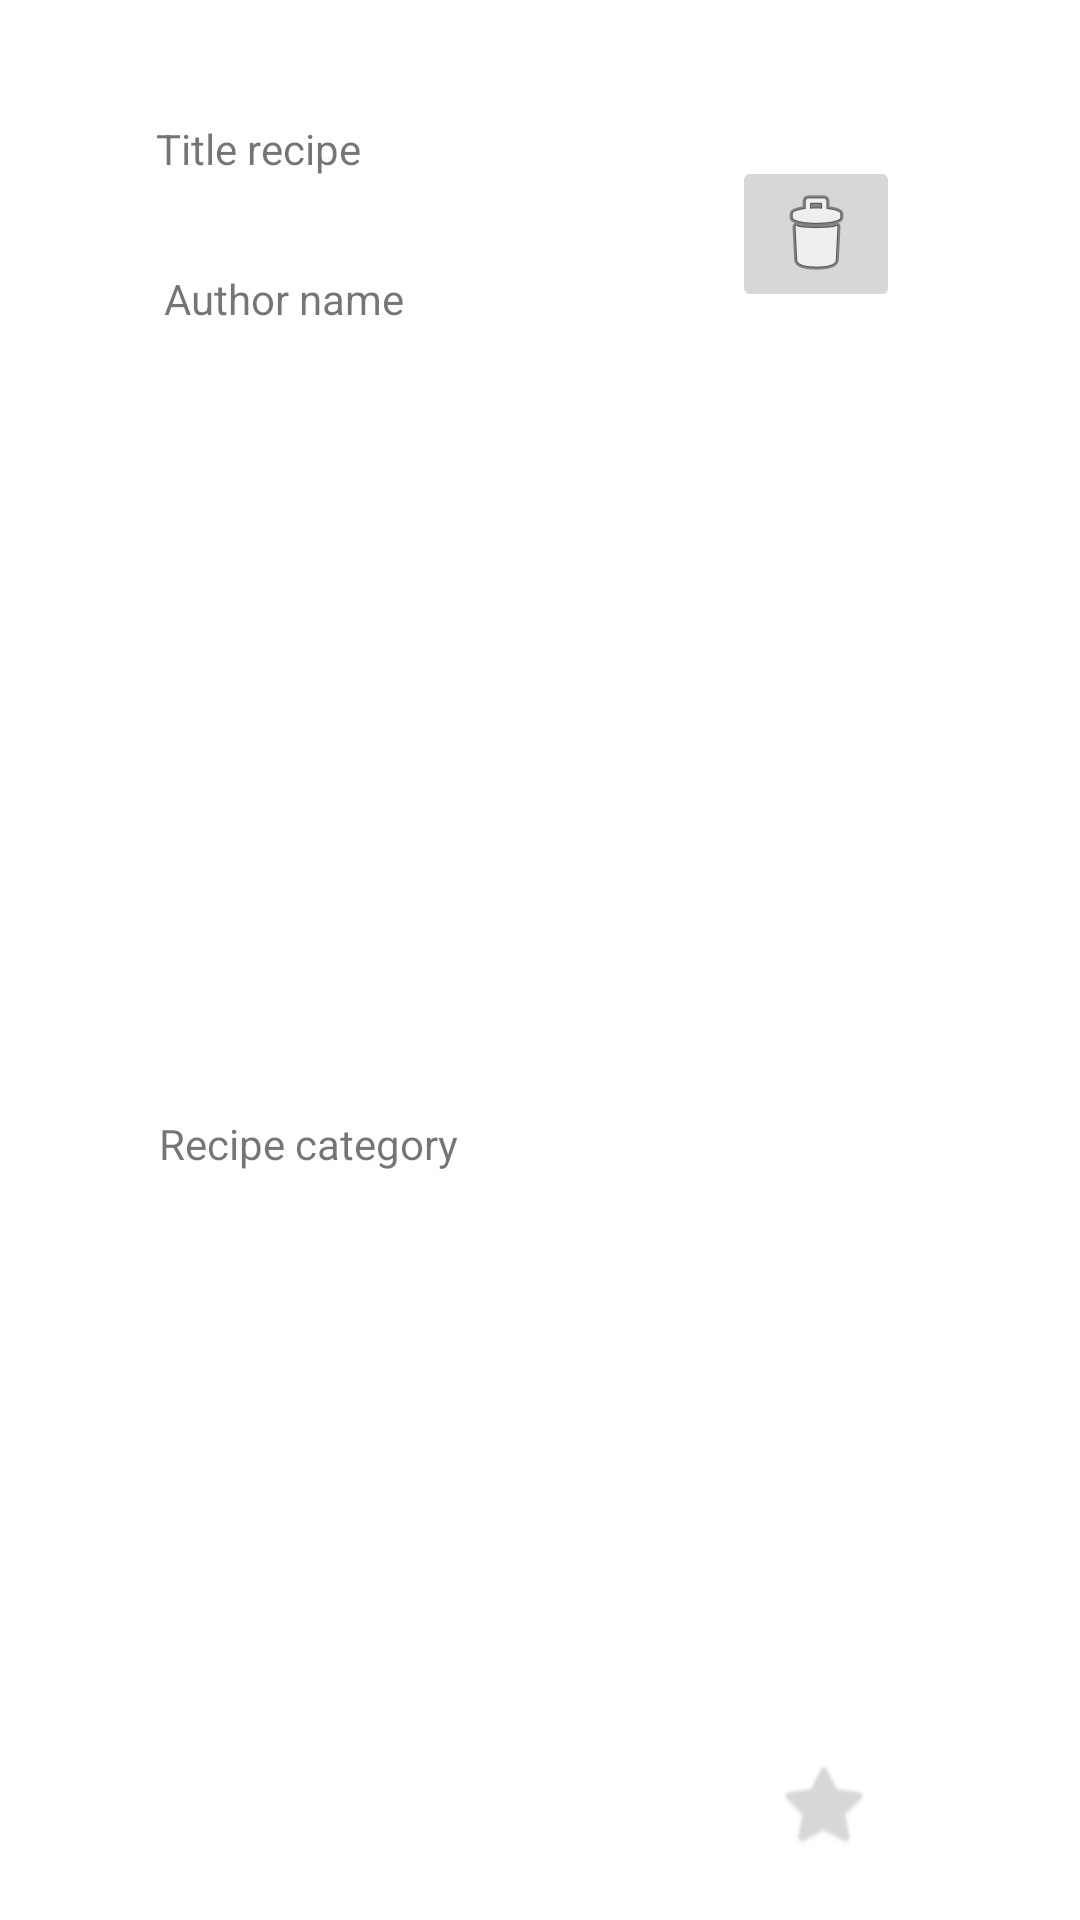

Named icons in this screenshot (1080w x 1920h) and their centers, (x=x, y=y):
delete: (x=816, y=234)
star: (x=824, y=1804)
